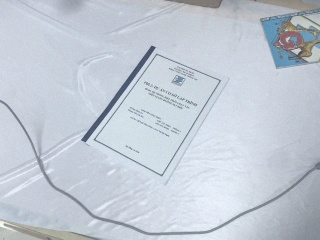book: (259, 6, 320, 68)
